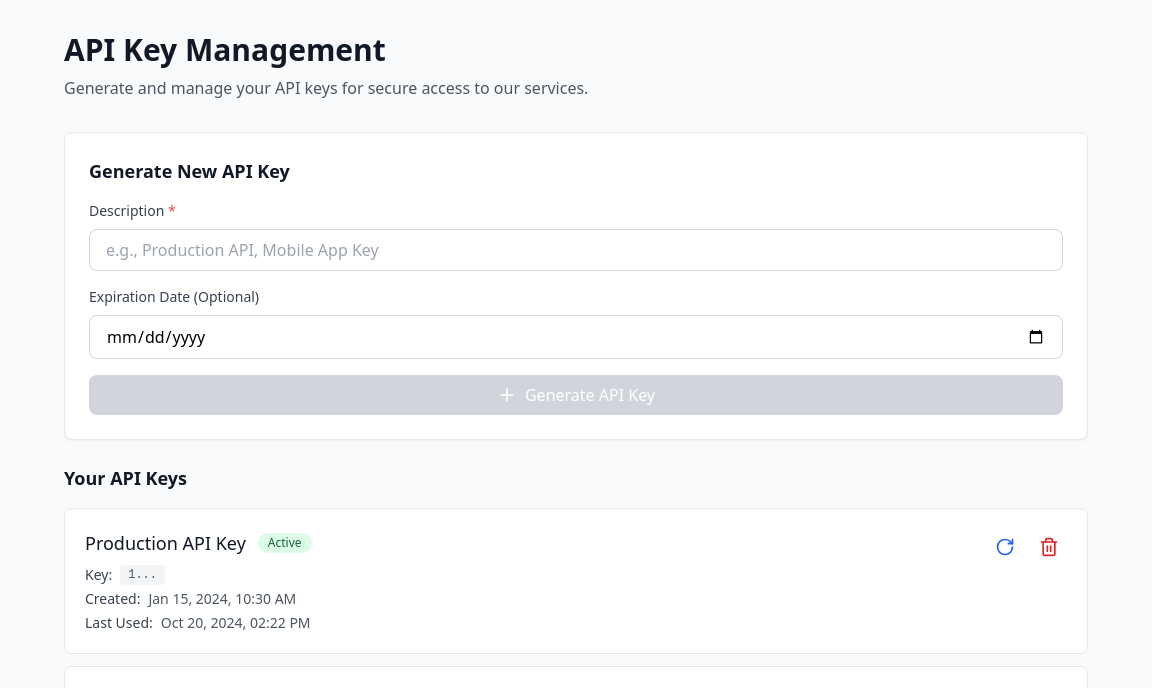
ApiKeyManagementPage (Integration) › shows error toast on revoke failure
This screenshot has width=1152, height=688.
Try revoking key
What coordinates should you click on to do the following:
click the button with test id "revoke-api-key-button-1"
I would click on:
 (1049, 547)
Its box is [1031,529,1067,565].
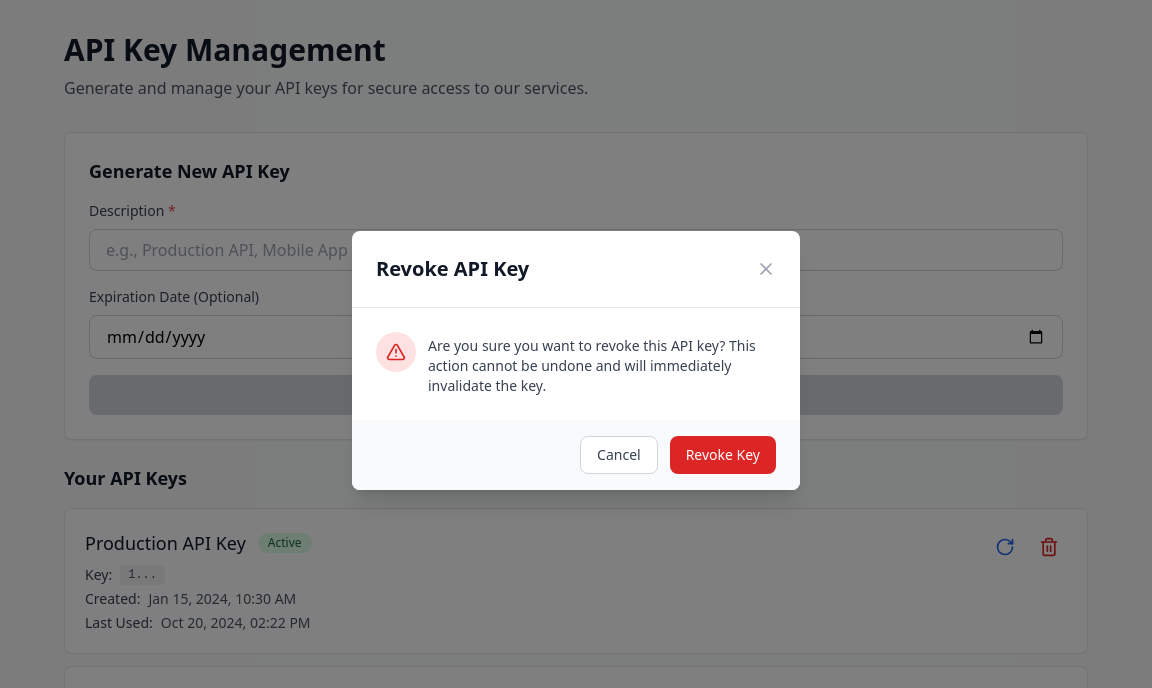
Now the text "Are you sure you want to revoke this API key?" is shown, box [428,336,756,394]
What coordinates should you click on to do the following:
click the button "Revoke Key"
I would click on:
 (723, 454)
Its box is [670,436,776,474].
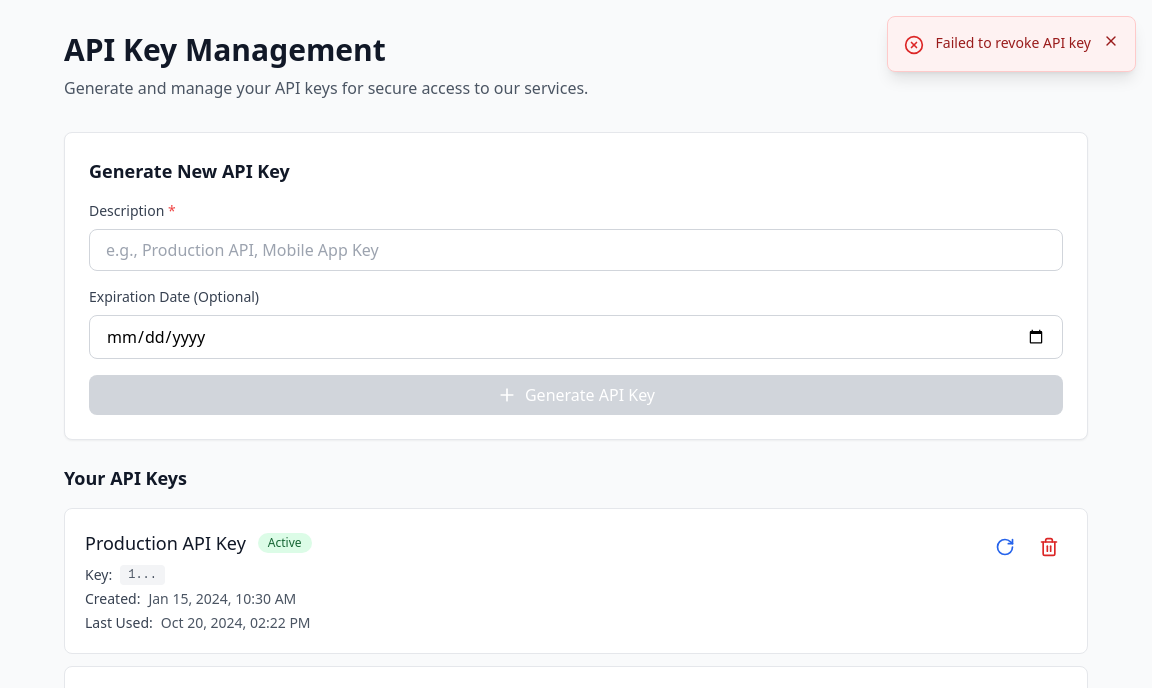
Now the text "Failed to revoke API key" is shown, box [936,33,1091,53]
